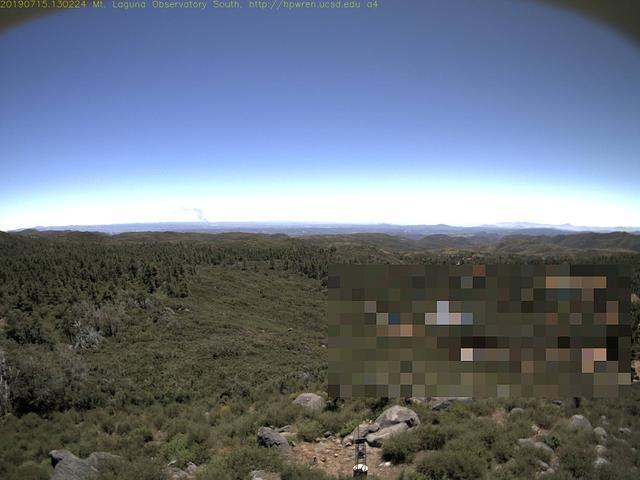smoke: (186, 203, 216, 232)
